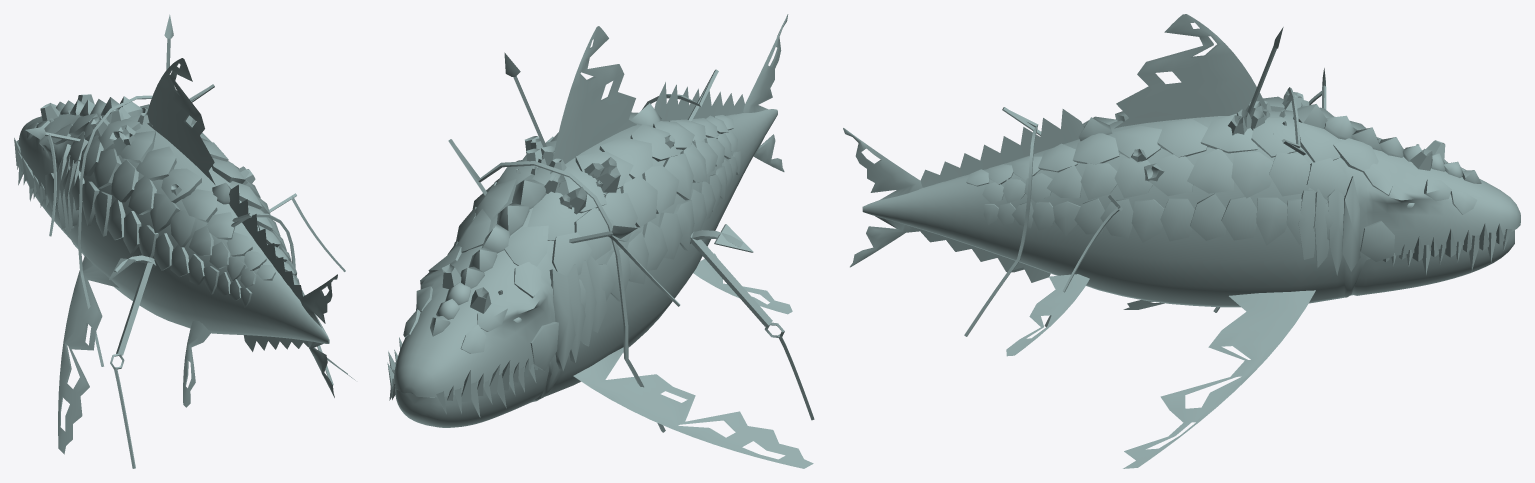
The model's file is leviathan_game.glb.
The picture shows the model from 3 angles, left to right: view 1: azimuth 30°, elevation 25°; view 2: azimuth 150°, elevation 25°; view 3: azimuth 270°, elevation 25°; orthographic projection. The views are drawn at different scales.
Visible parts, largest first — view 1: leviathan_game; view 2: leviathan_game; view 3: leviathan_game.
Boxes of the visible parts, x1,y1,x2,y2 form: leviathan_game: [14, 14, 355, 468]; leviathan_game: [387, 14, 814, 468]; leviathan_game: [843, 14, 1520, 468].
Bounding box in the file's own units: 22.18 × 24.73 × 39.98.
